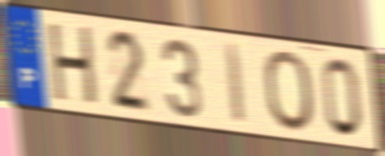0: (318, 54, 365, 140)
2: (104, 28, 152, 117)
3: (160, 35, 203, 119)
H: (47, 21, 100, 109)
I: (223, 40, 249, 128)
O: (260, 48, 317, 134)
